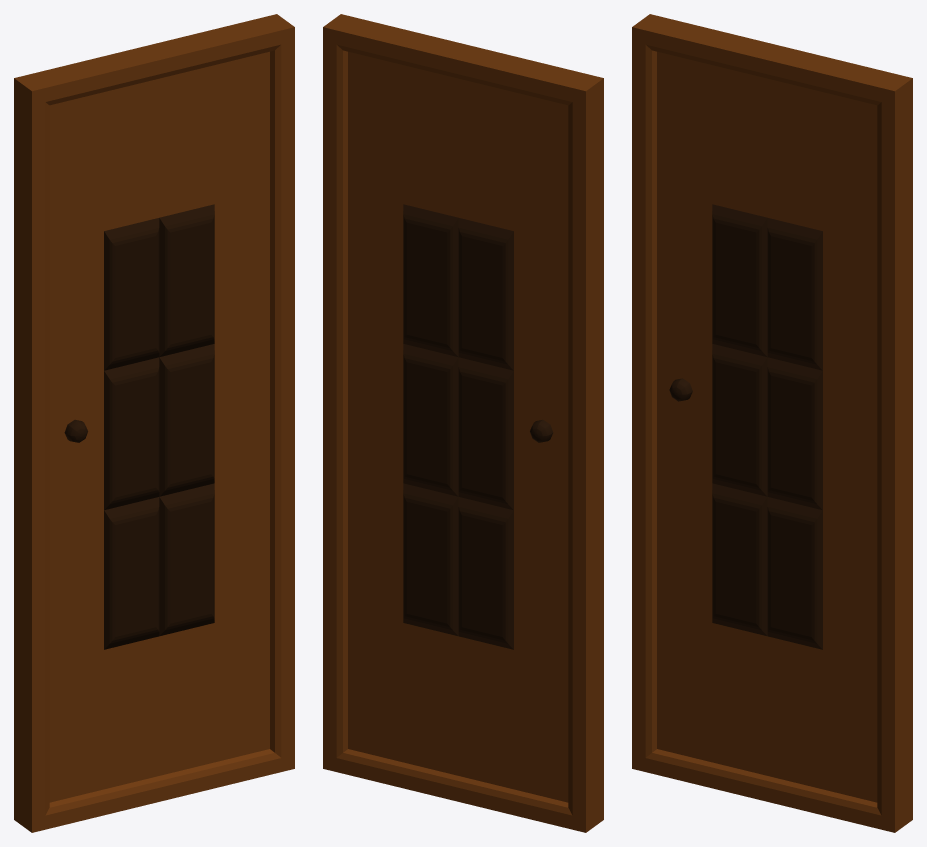
Rendered from FrontDoor.fbx.
The picture shows the model from 3 angles, left to right: view 1: azimuth 30°, elevation 25°; view 2: azimuth 150°, elevation 25°; view 3: azimuth 330°, elevation 25°; orthographic projection.
Visible parts, largest first — view 1: SM_FrontDoor; view 2: SM_FrontDoor; view 3: SM_FrontDoor.
Part boxes in pixels (box(x1,y1,x2,y2)): SM_FrontDoor: box(14, 14, 294, 832); SM_FrontDoor: box(323, 14, 603, 832); SM_FrontDoor: box(632, 14, 912, 832).
Size of the model in its own units: 77.92 by 210 by 12.03.
